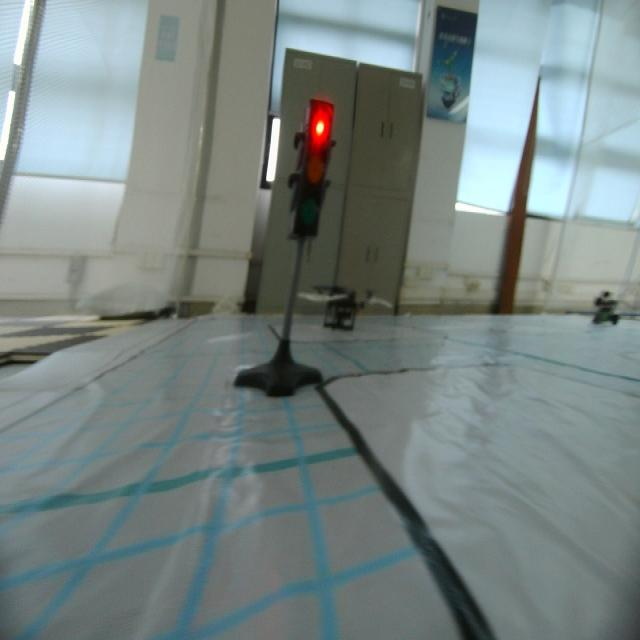red: (288, 92, 332, 245)
